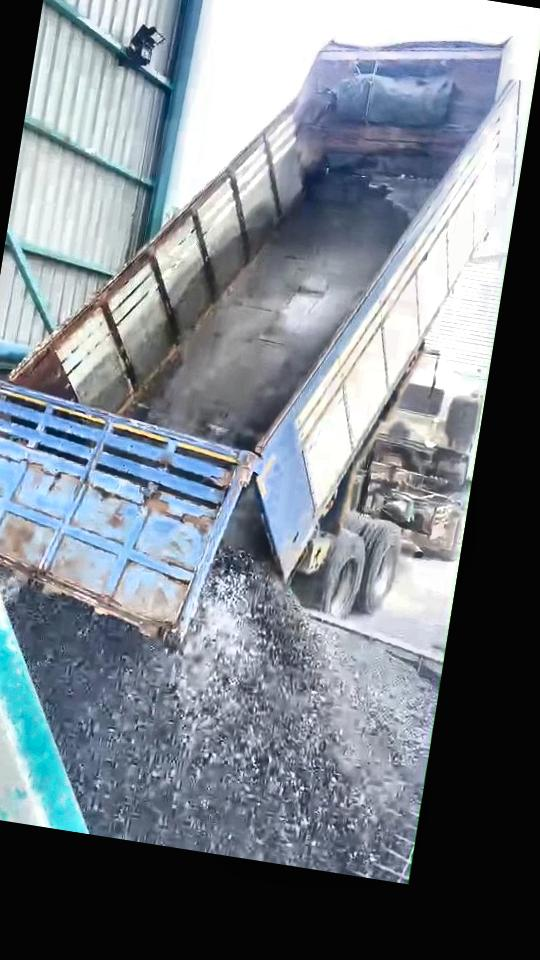gravel: (9, 551, 436, 876)
